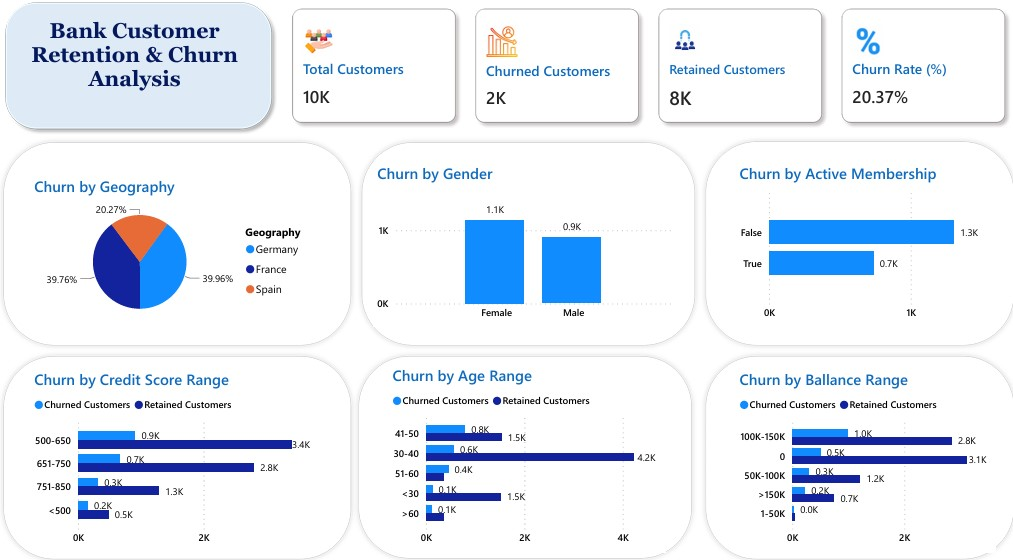

Layout of this report page (visuals, bound fields, positions):
{"tool":"powerbi","page":{"name":"Page 1","canvas":[1280,720],"ordinal":0},"visuals":[{"type":"cardVisual","fields":{"Data":["Bank_Churn_Cleaned.Total Customers","Bank_Churn_Cleaned.Churned Customers","Bank_Churn_Cleaned.Retained Customers","Bank_Churn_Cleaned.Churn Rate %"]},"box":[351.4,0,925.9,175.7],"z":0},{"type":"shape","box":[0,177.1,447.8,266.4],"z":1000},{"type":"pieChart","title":"Churn by Geography","fields":{"Category":["Bank_Churn_Cleaned.Geography"],"Y":["Bank_Churn_Cleaned.Churned Customers"]},"box":[40.3,226.1,361.4,188.6],"z":2000},{"type":"shape","box":[447.8,177.1,430.6,266.4],"z":3000},{"type":"shape","box":[878.4,175.7,398.9,267.8],"z":4000},{"type":"columnChart","title":"Churn by Gender","fields":{"Category":["Bank_Churn_Cleaned.Gender"],"Y":["Bank_Churn_Cleaned.Churned Customers"]},"box":[469.4,208.8,380.2,205.9],"z":5000},{"type":"barChart","title":"Churn by Active Membership","fields":{"Category":["Bank_Churn_Cleaned.IsActiveMember"],"Y":["Bank_Churn_Cleaned.Churned Customers"]},"box":[921.6,208.8,326.9,205.9],"z":6000},{"type":"shape","box":[0,443.5,447.8,267.8],"z":7000},{"type":"shape","box":[443.5,443.5,430.6,266.4],"z":8000},{"type":"shape","box":[878.4,443.5,398.9,267.8],"z":9000},{"type":"clusteredBarChart","title":"Churn by Credit Score Range","fields":{"Category":["Bank_Churn_Cleaned.CreditScoreRange"],"Y":["Bank_Churn_Cleaned.Churned Customers","Bank_Churn_Cleaned.Retained Customers"]},"box":[40.3,466.6,361.4,229],"z":10000},{"type":"clusteredBarChart","title":"Churn by Age Range","fields":{"Y":["Bank_Churn_Cleaned.Churned Customers","Bank_Churn_Cleaned.Retained Customers"],"Category":["Bank_Churn_Cleaned.AgeRange"]},"box":[488.2,462.2,347,233.3],"z":11000},{"type":"clusteredBarChart","title":"Churn by Ballance Range","fields":{"Y":["Bank_Churn_Cleaned.Churned Customers","Bank_Churn_Cleaned.Retained Customers"],"Category":["Bank_Churn_Cleaned.BalanceRange"]},"box":[921.6,466.6,326.9,229],"z":12000},{"type":"shape","box":[0,0,351.4,175.7],"z":12500},{"type":"textbox","box":[25.9,24.5,289.4,110.9],"z":12501}]}

Visuals, with their boxes in screenshot pixels (x1, y1, x2, y2), scaled from the page's 1280x720 canvas onto the 1013x560 screenshot:
cardVisual - Bank_Churn_Cleaned.Total Customers x Bank_Churn_Cleaned.Churned Customers: bbox(278, 0, 1011, 137)
shape: bbox(0, 138, 354, 345)
"Churn by Geography" pieChart: bbox(32, 176, 318, 323)
shape: bbox(354, 138, 695, 345)
shape: bbox(695, 137, 1011, 345)
"Churn by Gender" columnChart: bbox(371, 162, 672, 323)
"Churn by Active Membership" barChart: bbox(729, 162, 988, 323)
shape: bbox(0, 345, 354, 553)
shape: bbox(351, 345, 692, 552)
shape: bbox(695, 345, 1011, 553)
"Churn by Credit Score Range" clusteredBarChart: bbox(32, 363, 318, 541)
"Churn by Age Range" clusteredBarChart: bbox(386, 359, 661, 541)
"Churn by Ballance Range" clusteredBarChart: bbox(729, 363, 988, 541)
shape: bbox(0, 0, 278, 137)
textbox: bbox(20, 19, 250, 105)
